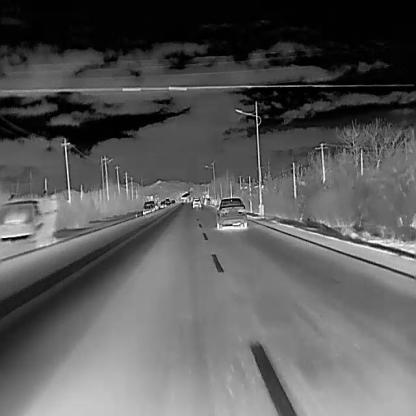car: (0, 190, 56, 251), (215, 197, 247, 230), (142, 199, 155, 215), (192, 197, 202, 208), (159, 199, 166, 208), (204, 197, 211, 205), (165, 197, 171, 205), (170, 198, 175, 204)
